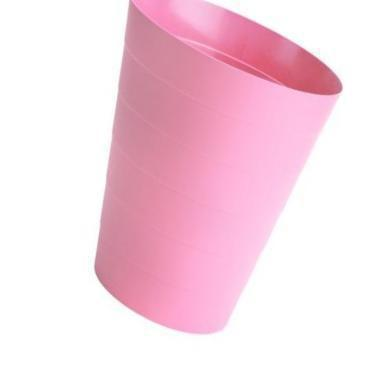Bote de Basura: (86, 4, 342, 336)
